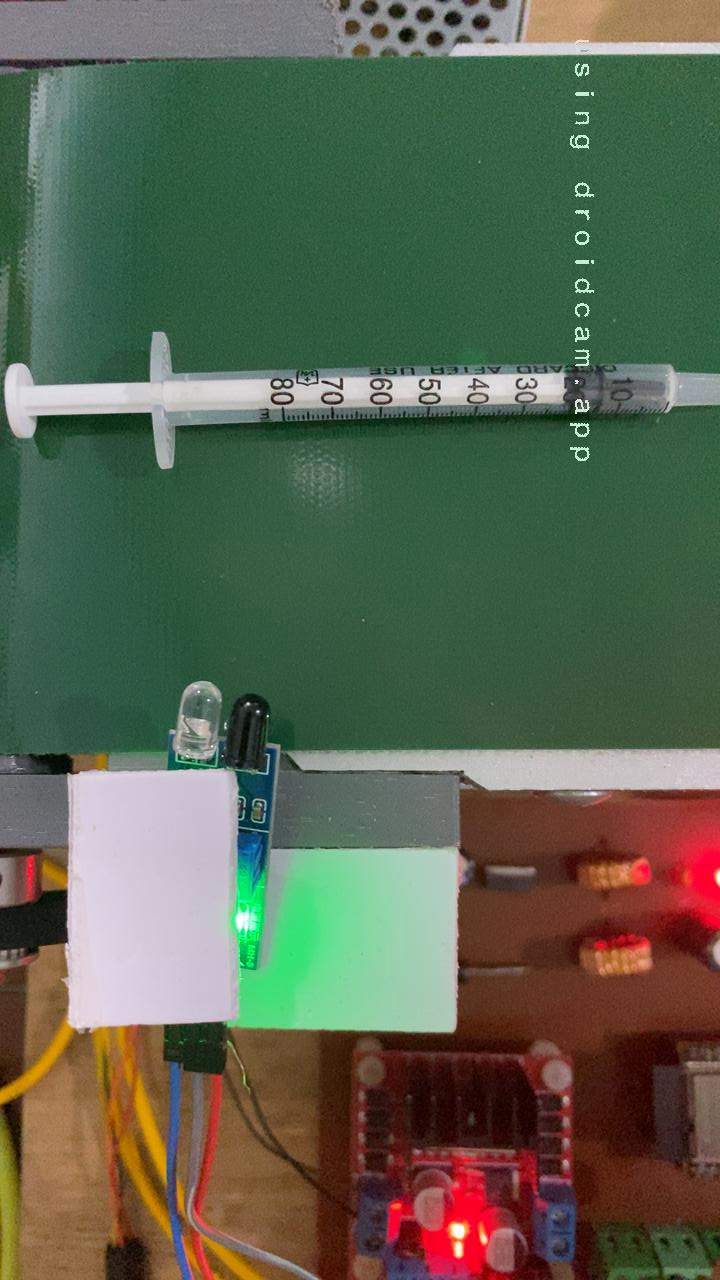syringe: (0, 325, 720, 478)
